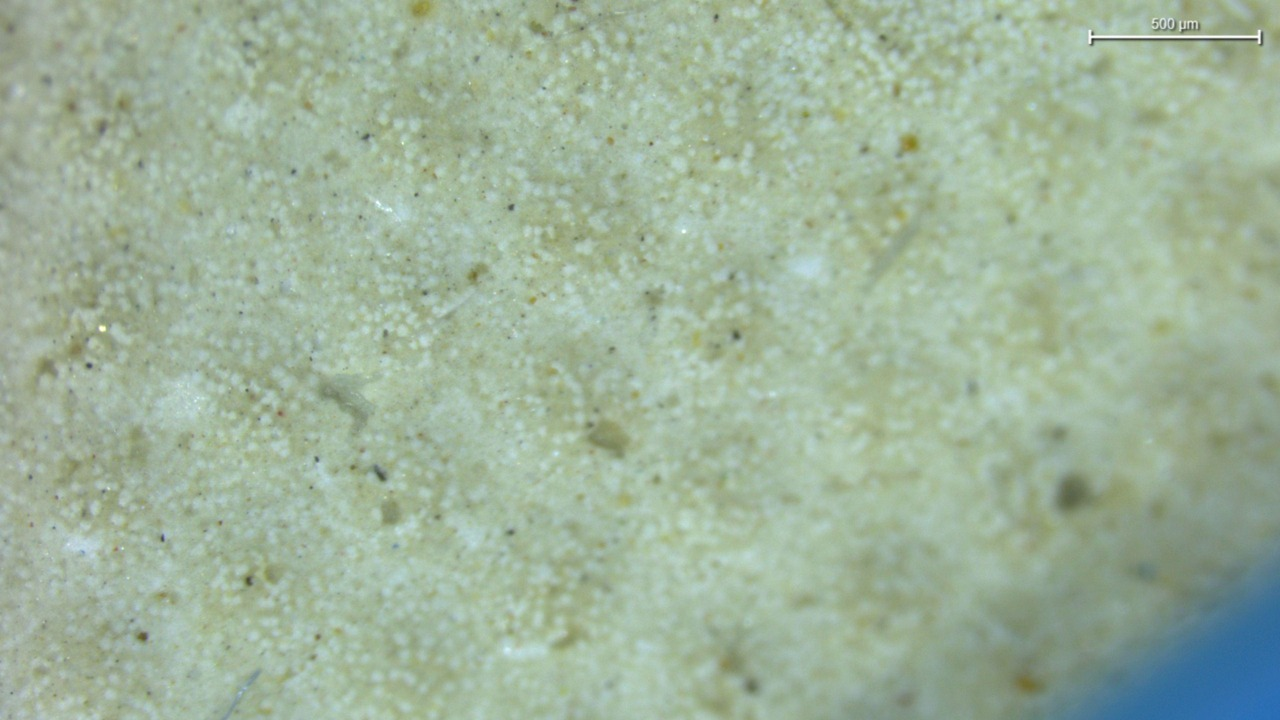microplastic_fragment: (318, 374, 373, 432)
